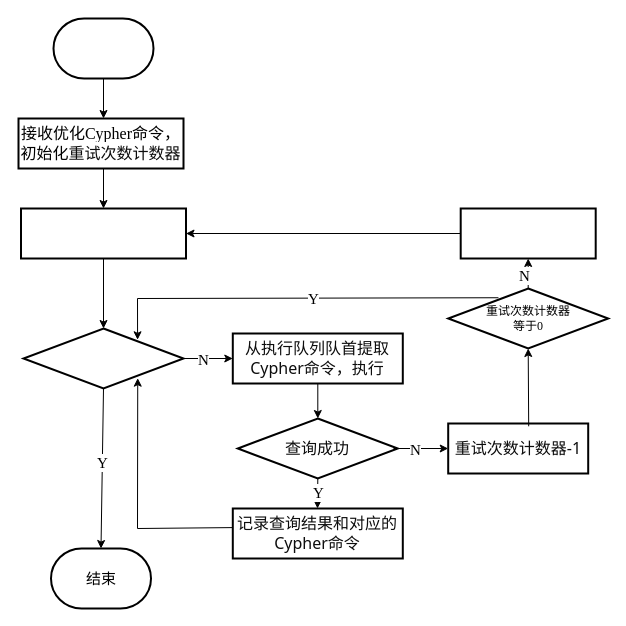
Some shapes in this 626 by 626 pixel diagram are drawn without their labels. The box of each missing label's shape, as (x1, y1, x2, y2) in pixels:
存入执行队列: (20, 207, 186, 259)
开始: (52, 17, 154, 79)
执行队列为空: (22, 327, 184, 389)
自动修正查询命令: (459, 207, 596, 259)
